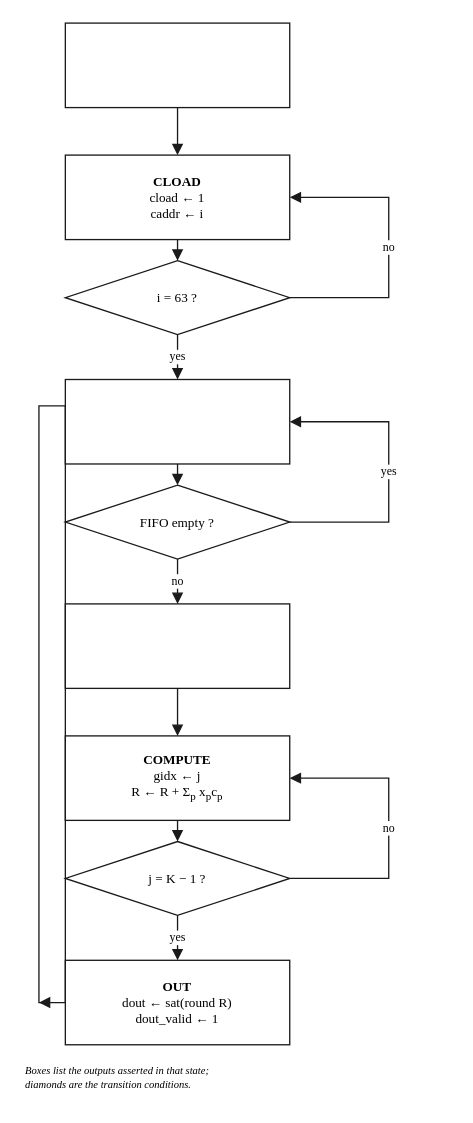
The diagram is 473 pixels wide and 1123 high, and some of its shapes have lost their labels. Each missing label, with the centre of its shape:
ACCEPT we ← 1, gidx ← 0 start ← 1, rot ← rot − 1: the point at 177,645
IDLE: the point at 177,65
WAIT: the point at 177,421
